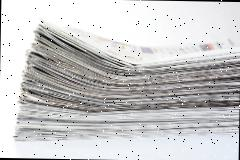paper: (13, 17, 240, 145), (59, 24, 238, 68)
